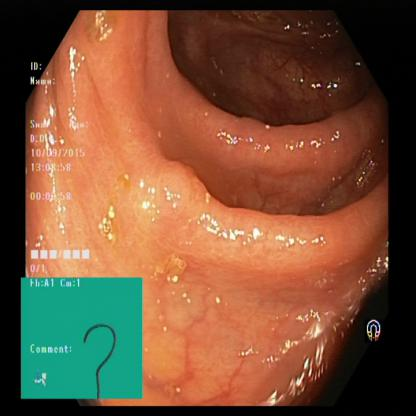Labels: (26, 58, 112, 275), (22, 278, 143, 397)
Polyps: (128, 158, 204, 250)
